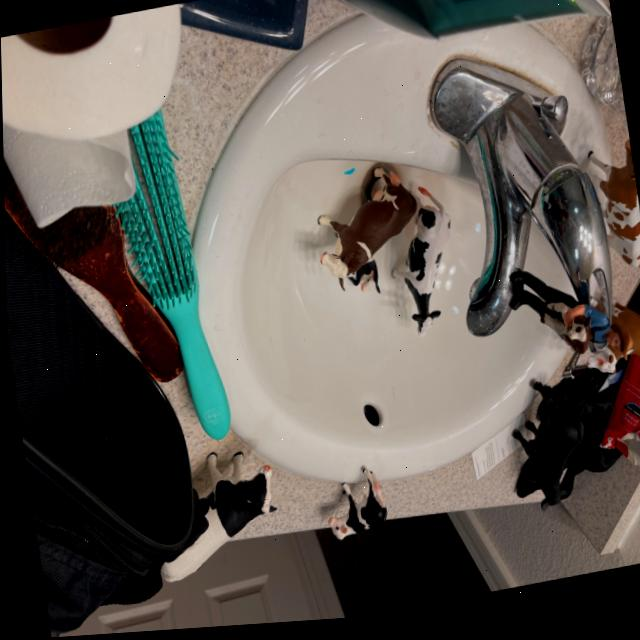cow: (150, 443, 289, 613), (296, 164, 425, 290), (491, 387, 593, 517), (382, 190, 453, 343), (592, 148, 640, 279), (316, 470, 389, 544), (582, 310, 640, 394), (533, 301, 601, 364), (345, 264, 378, 301)
person: (558, 301, 629, 377)
